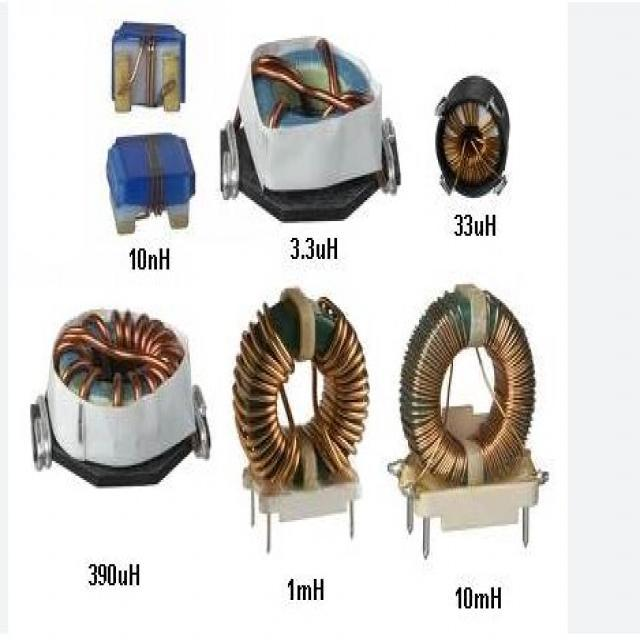Inductor: (220, 36, 400, 221), (31, 310, 210, 486), (232, 289, 369, 518), (396, 285, 535, 501), (106, 131, 195, 234), (436, 76, 508, 192), (111, 21, 186, 113)
